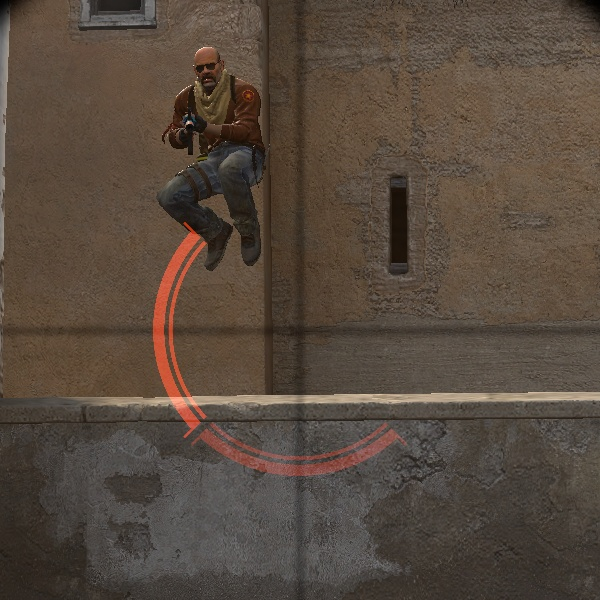t_body: (156, 38, 281, 271)
t_head: (182, 44, 234, 97)
